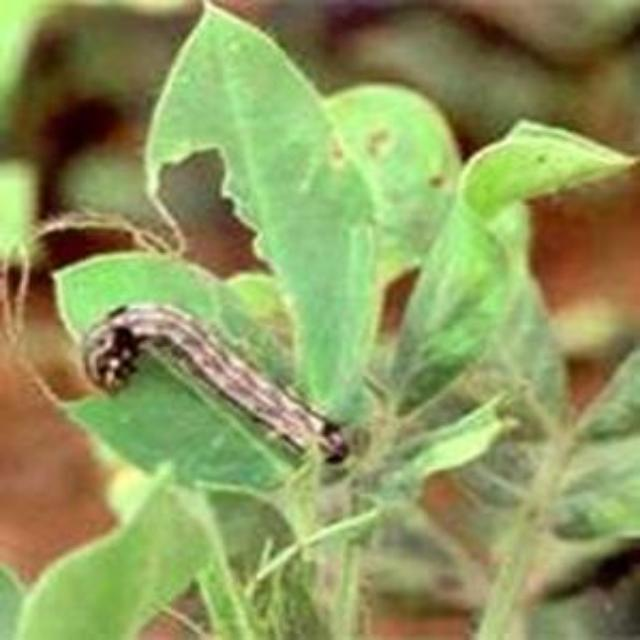Tobacco cutworm: (30, 254, 398, 530)
